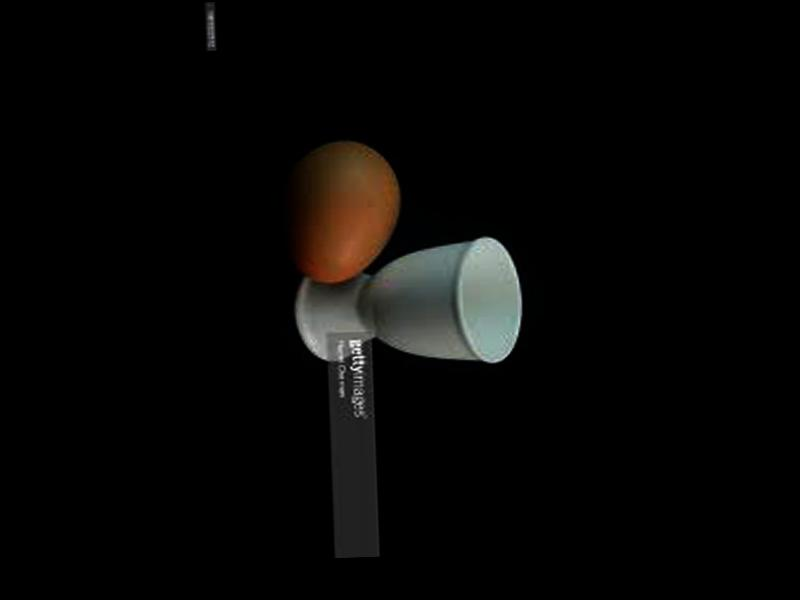Eggs: (284, 139, 404, 286)
